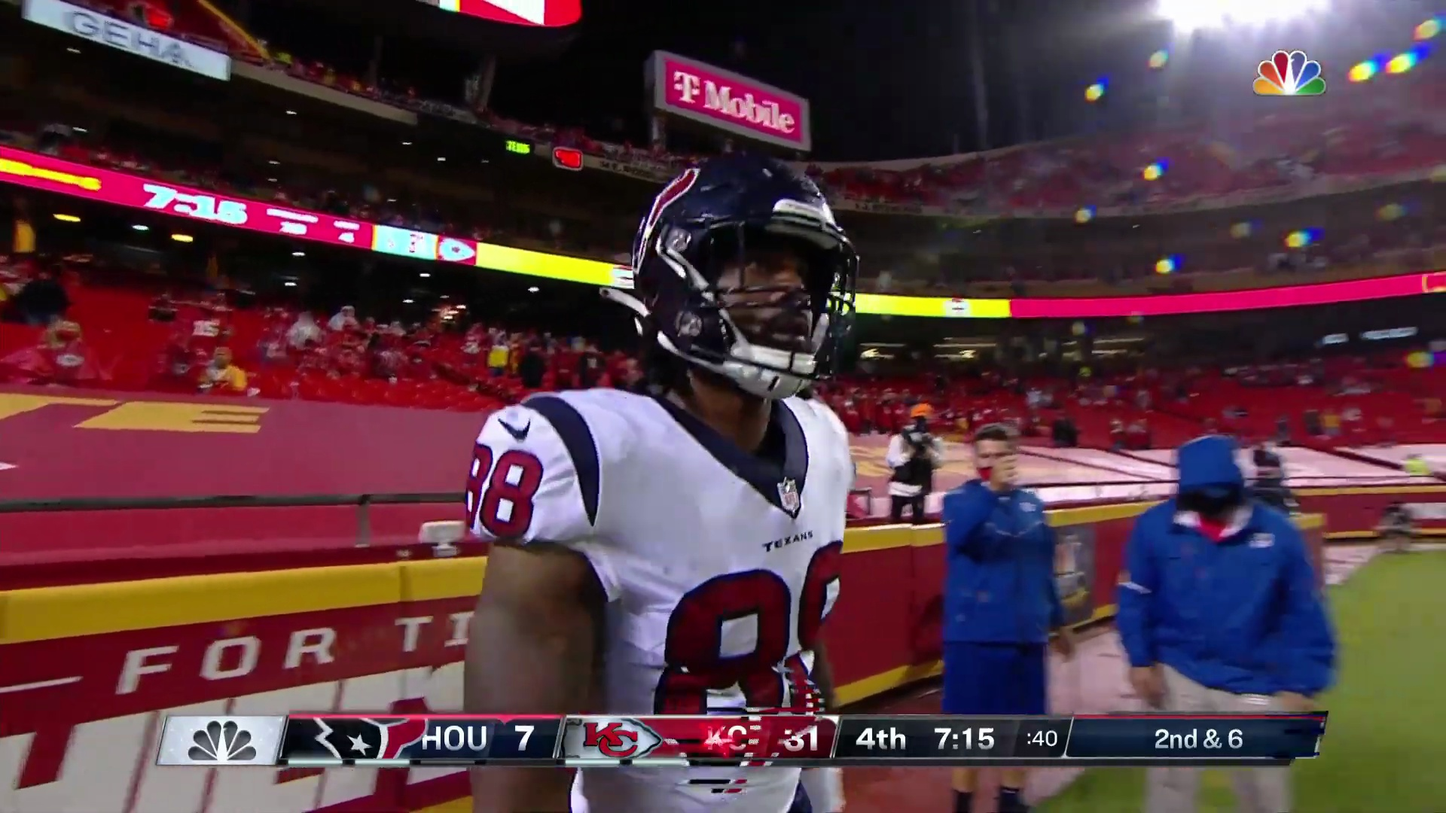Player: (534, 257, 961, 724)
